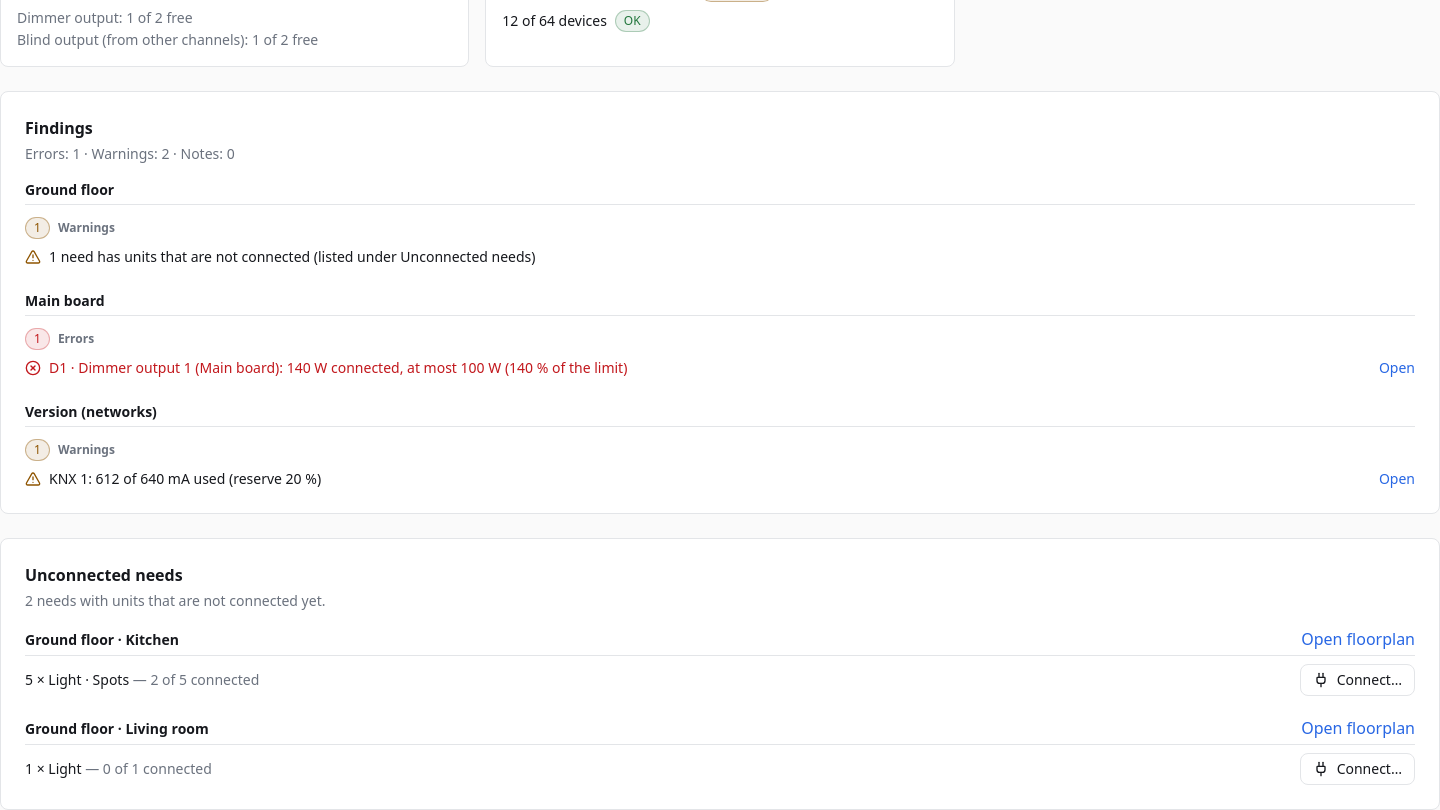
it: ChecksTab › lists unconnected needs by plan and zone and connects one with the picker
This screenshot has width=1440, height=810.
(page scrolled)
Expected: the list named "Ground floor · Kitchen" shows "5 × Light · Spots — 2 of 5 connected", [25, 664, 1415, 696]
Step 1. Click the button with aria-label "Connect 1 × Light…" → (1357, 769), box [1300, 753, 1415, 785]
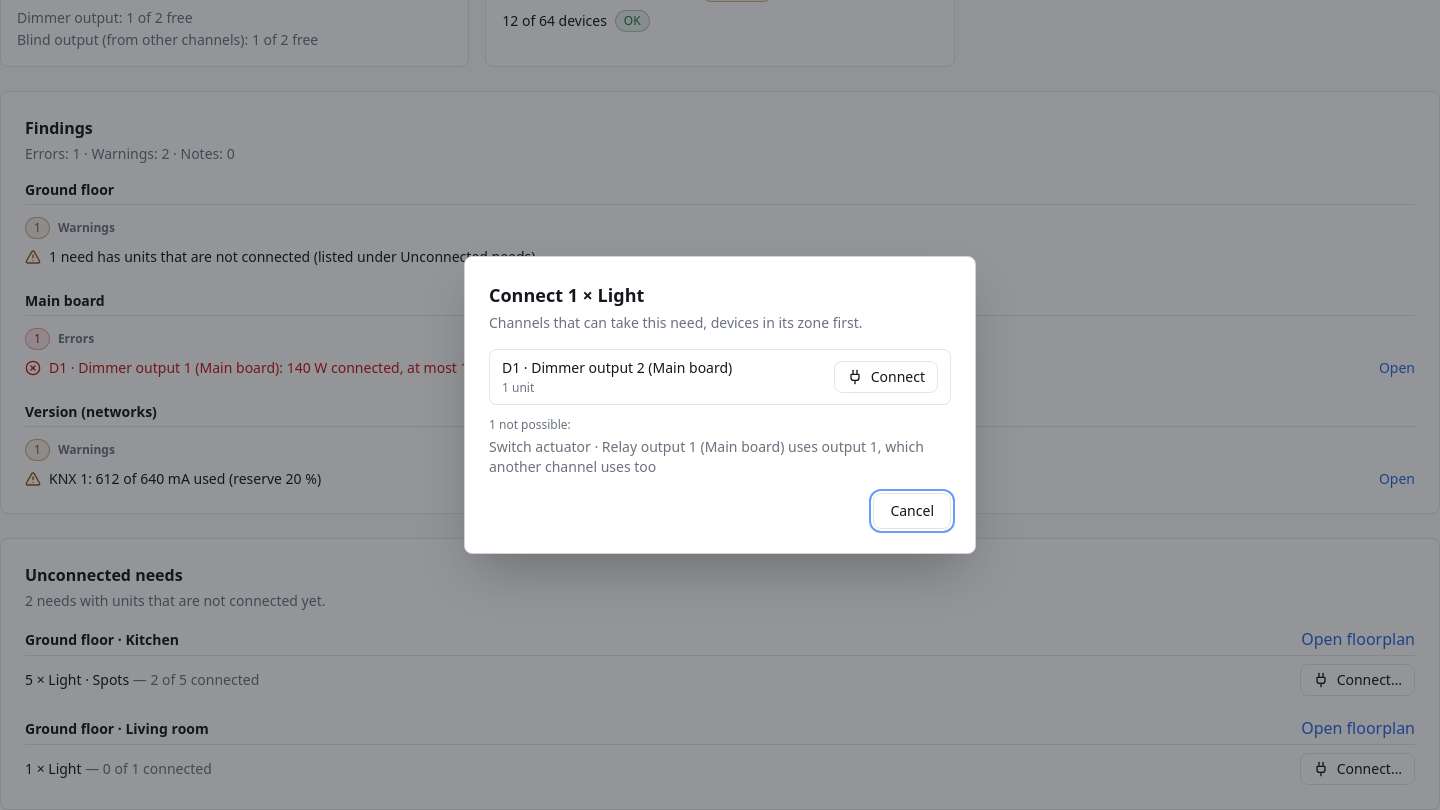
Expected: the text "D1 · Dimmer output 2 (Main board)" is shown, [502, 358, 732, 378]
Expected: the list item "Switch actuator · Relay output 1 (Main board) uses output 1, which another channel uses too" is shown, [489, 437, 924, 476]
Step 2. Click the button with aria-label "Connect to D1 · Dimmer output 2 (Main board)" → (886, 377), box [834, 361, 938, 393]
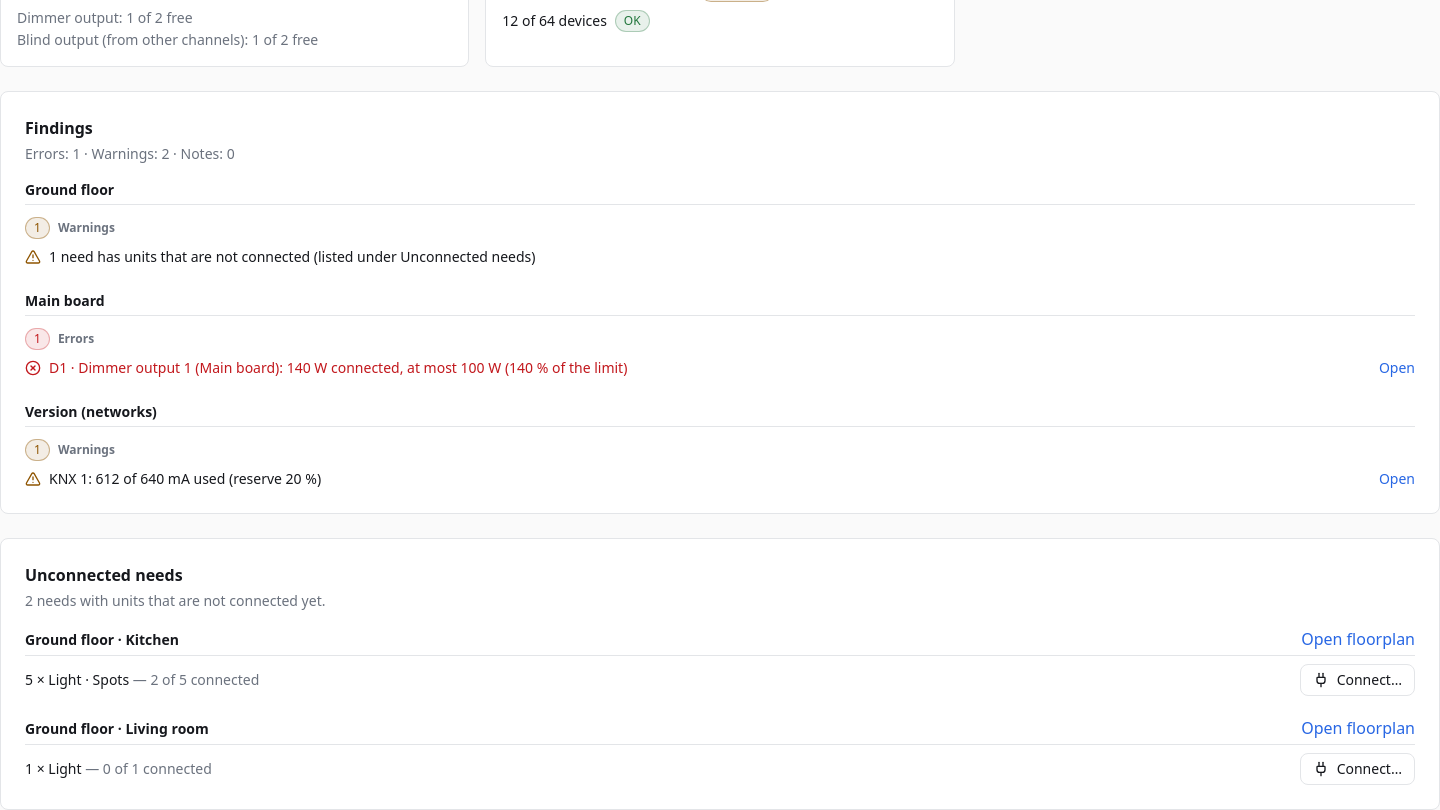
Expected: the dialog is gone
